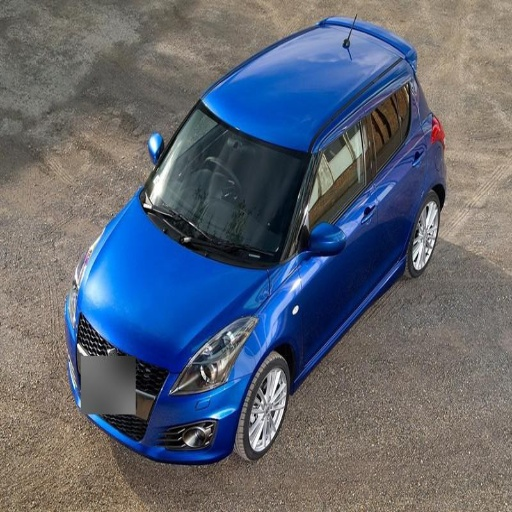front_bumper: (75, 343, 244, 463)
front_glass: (161, 173, 292, 267)
front_left_door: (298, 100, 384, 365)
hood: (82, 207, 270, 363), (204, 39, 401, 132)
